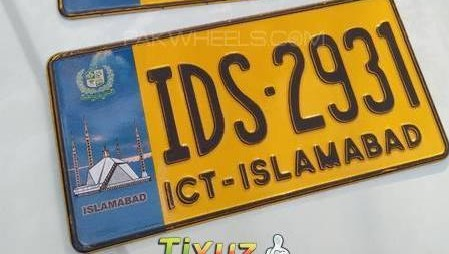1: (377, 20, 423, 109)
2: (269, 41, 327, 135)
3: (341, 22, 396, 119)
9: (306, 30, 360, 124)
A: (380, 126, 406, 156), (292, 145, 316, 177), (342, 136, 366, 166)
B: (360, 132, 383, 161)
C: (174, 175, 201, 207)
D: (175, 58, 227, 158), (401, 121, 424, 150)
I: (141, 60, 190, 165), (159, 180, 177, 211), (236, 161, 252, 192)
L: (268, 155, 292, 182)
M: (313, 138, 340, 171)
S: (218, 48, 269, 147), (250, 159, 271, 188)
T: (199, 169, 217, 200)
